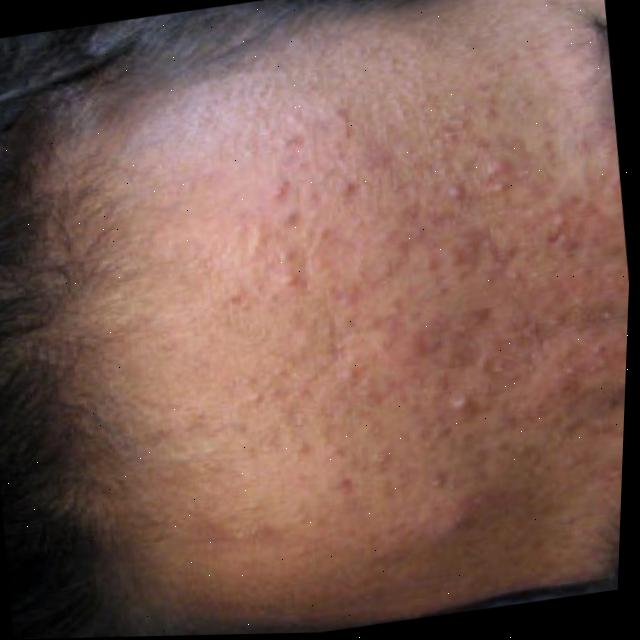Acne: (183, 115, 543, 478)
